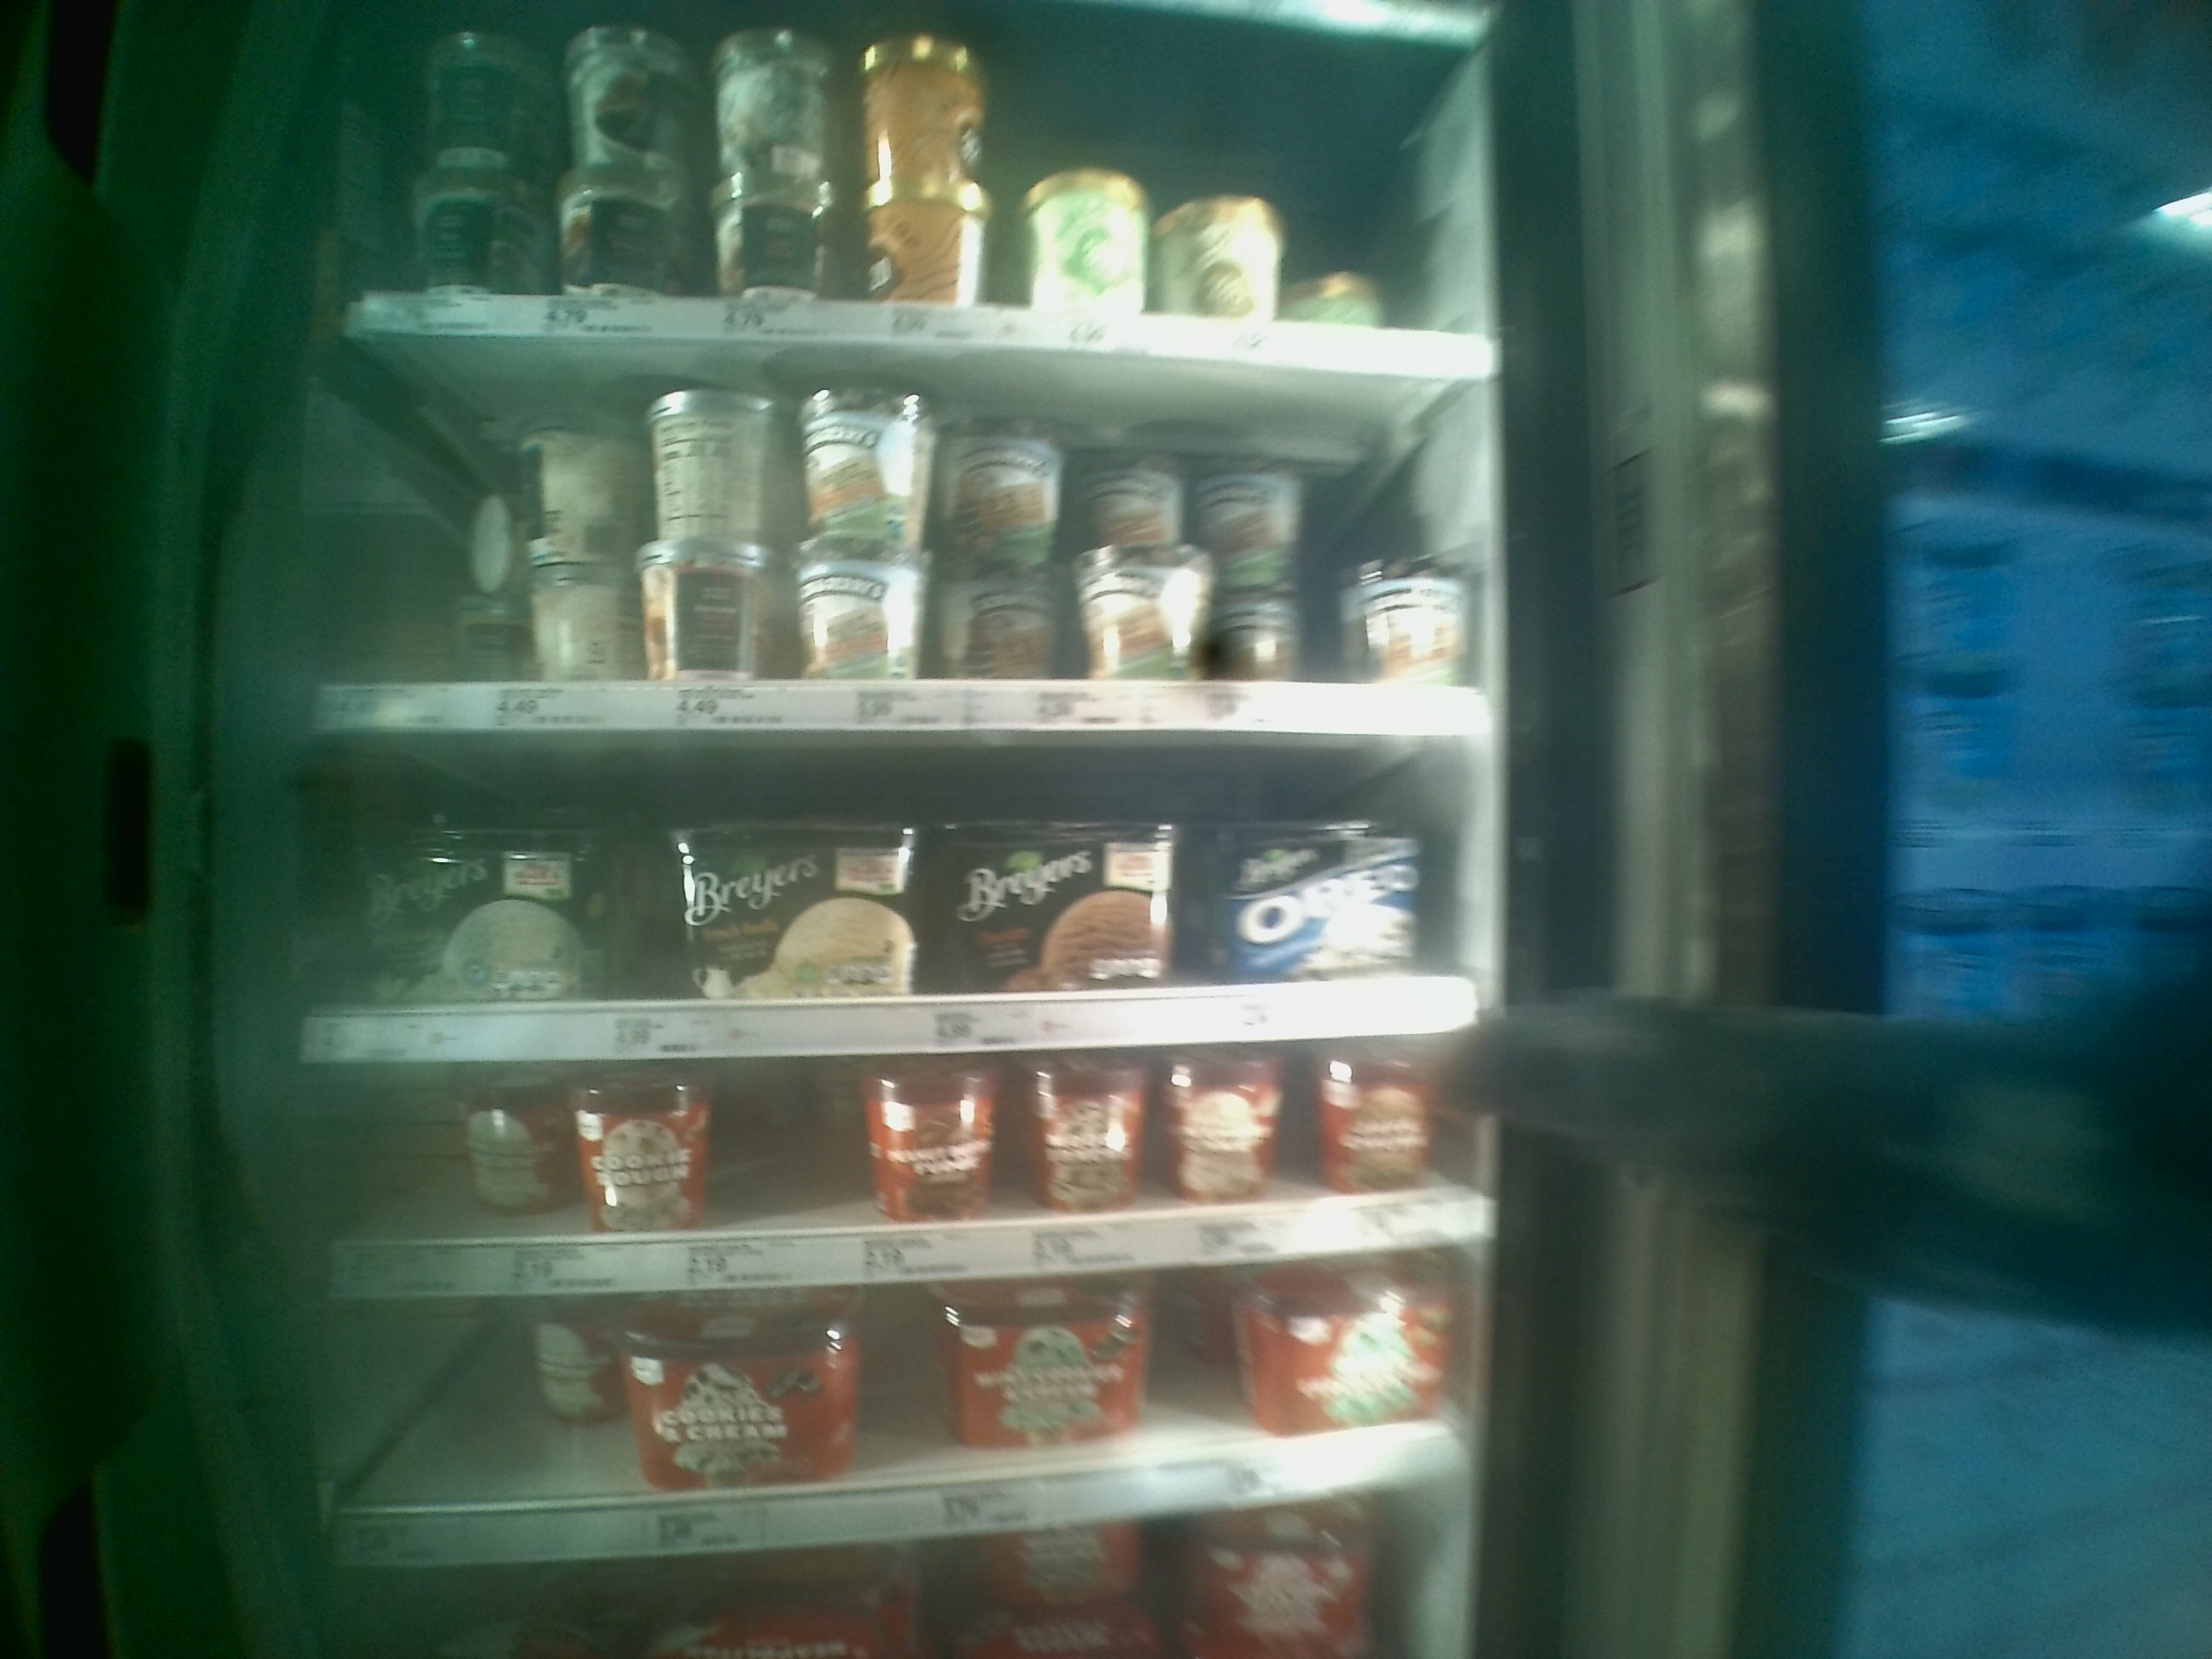shelf: (322, 331, 1474, 732), (308, 727, 1486, 1047), (317, 1061, 1458, 1286)
